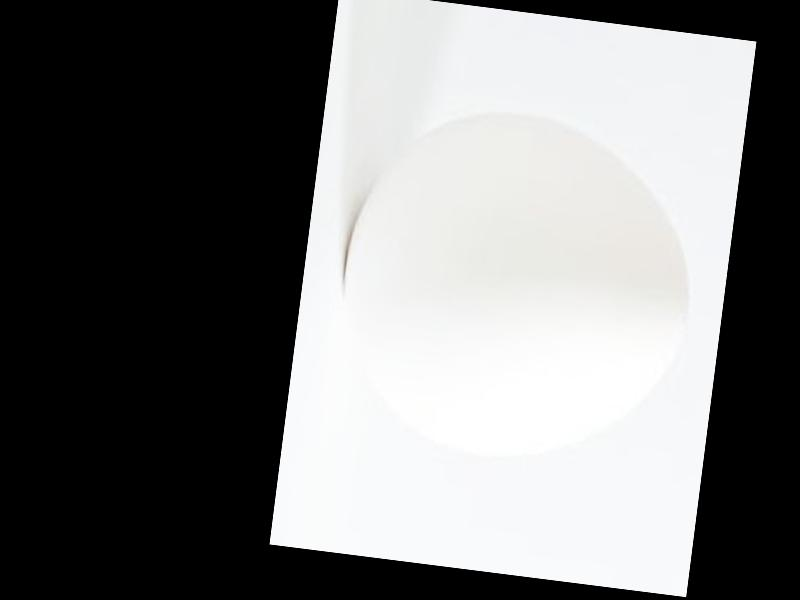Eggs: (324, 98, 711, 477)
